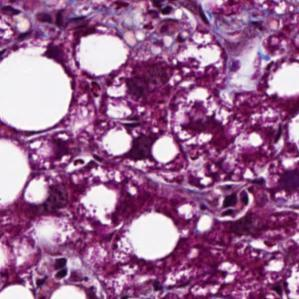inflammation: (194, 173, 254, 224), (26, 3, 96, 38), (23, 254, 75, 292), (134, 0, 181, 32)
